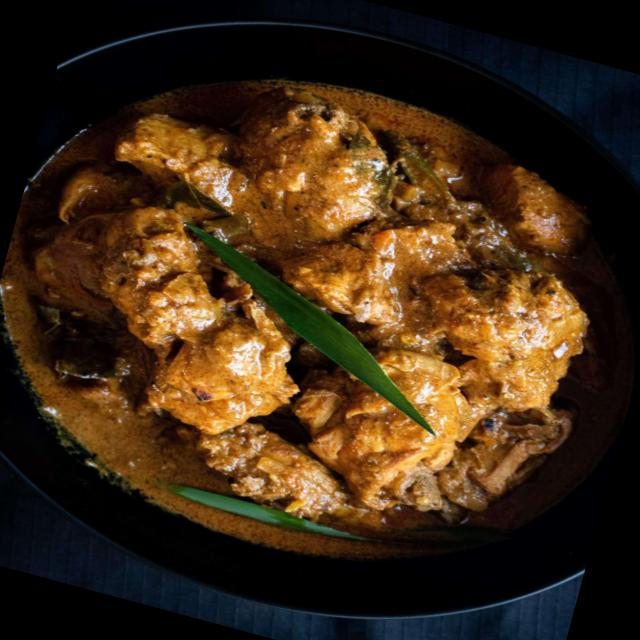chicken: (0, 44, 640, 610)
